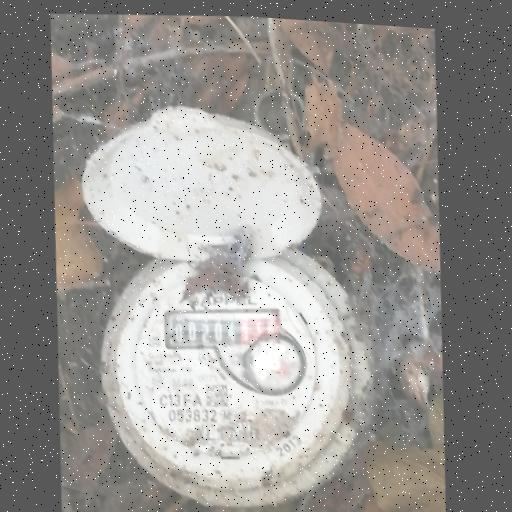0: (171, 318, 186, 345), (185, 318, 200, 345), (211, 318, 226, 345)
1: (251, 318, 268, 343), (238, 318, 254, 344)
2: (198, 318, 213, 345)
4: (224, 319, 240, 346), (267, 318, 280, 335)
border_water_meter_number: (162, 301, 283, 357)
